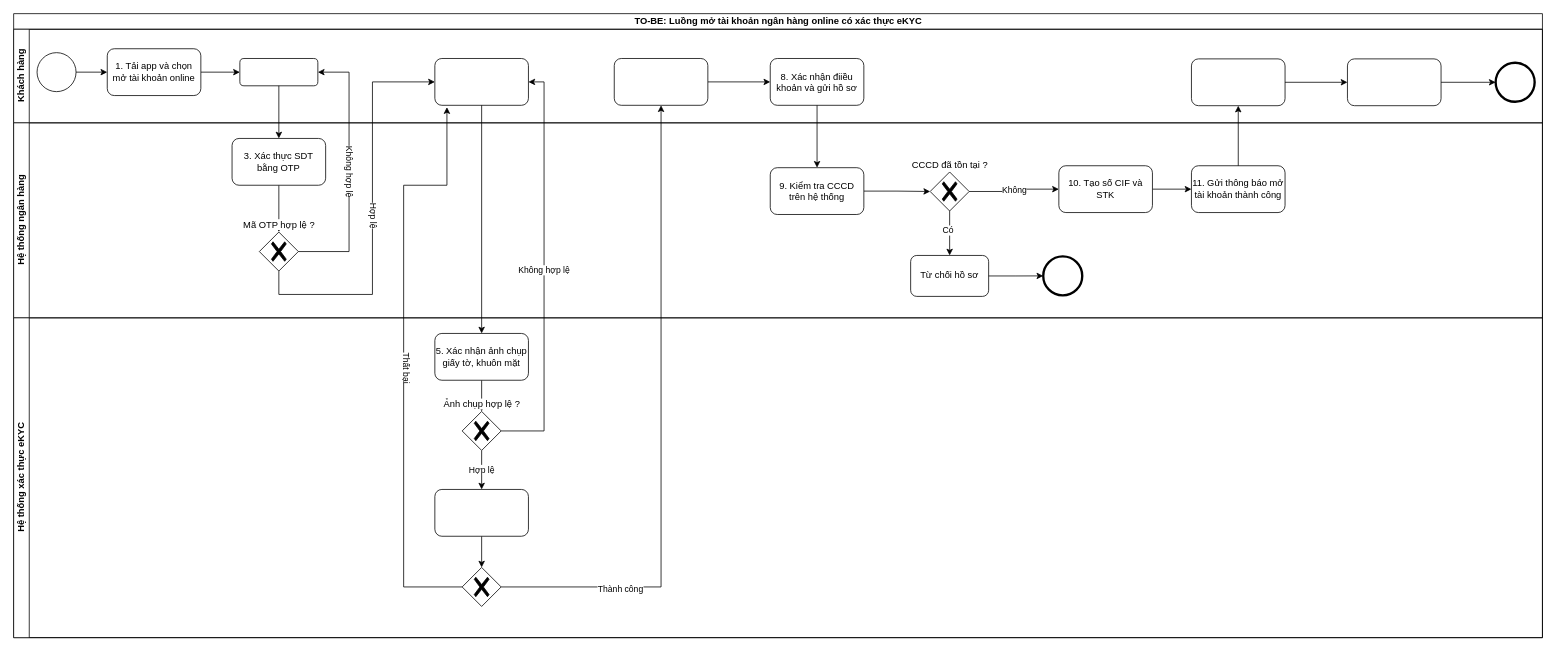
This 1556x651 diagram has some shape labels left out. The shapes that lost their labels are listed below. From the top down, each one's centre as x and y in pixels, then its label:
At pixel 278 72: "2. Nhập SDT".
At pixel 481 81: "4. Chụp ảnh thông tin giấy tờ tùy thân và khuôn mặt".
At pixel 660 81: "7. Bổ sung thông tin đăng ký (Người giới thiệu, điểm giao dịch)".
At pixel 1238 82: "12. Nhận thông tin số tài khoản đã mở".
At pixel 1394 82: "13. Hoàn tất thiết lập eBanking và PIN".
At pixel 481 512: "6. Xác minh độ trùng khớp giữa ảnh chụp giấy tờ và khuôn mặt".
At pixel 481 586: "Xác minh thành công ?".
